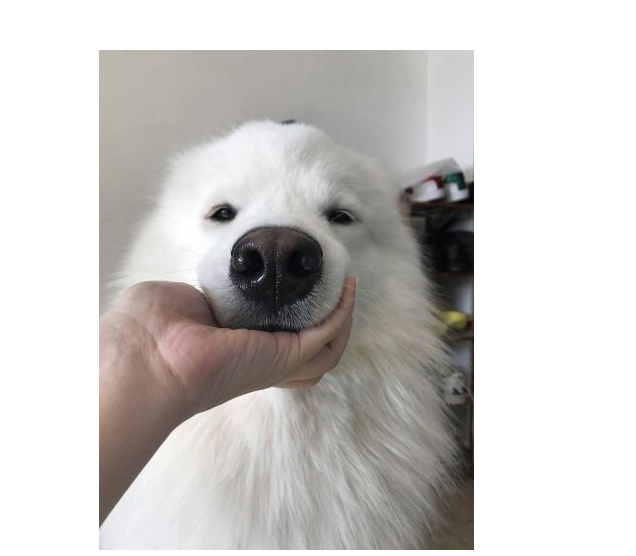nose: (228, 226, 327, 311)
